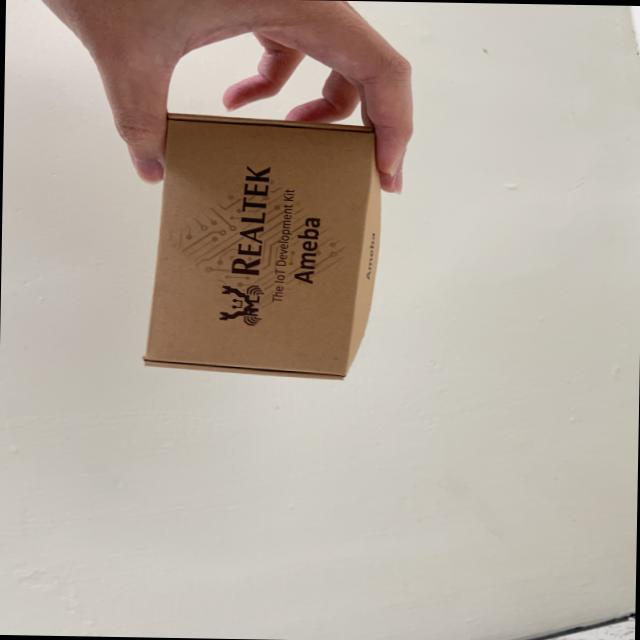box: (141, 102, 398, 386)
